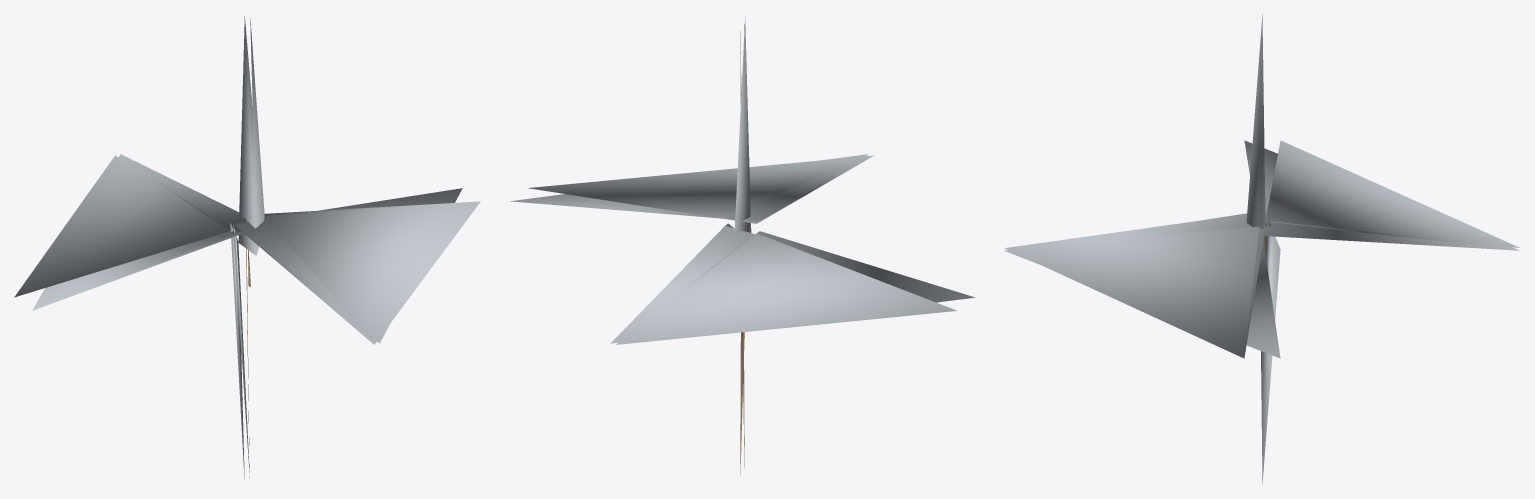
The model's file is equip_weapon_steel_pickaxe.glb.
The picture shows the model from 3 angles, left to right: view 1: azimuth 30°, elevation 25°; view 2: azimuth 150°, elevation 25°; view 3: azimuth 270°, elevation 25°; orthographic projection.
Parts seen in each view (by area): view 1: equip_weapon_steel_pickaxe; view 2: equip_weapon_steel_pickaxe; view 3: equip_weapon_steel_pickaxe.
Boxes of the visible parts, x1,y1,x2,y2 form: equip_weapon_steel_pickaxe: (14,16,480,478); equip_weapon_steel_pickaxe: (510,16,975,474); equip_weapon_steel_pickaxe: (1004,14,1519,484).
Bounding box in the file's own units: 2 × 2 × 2.
